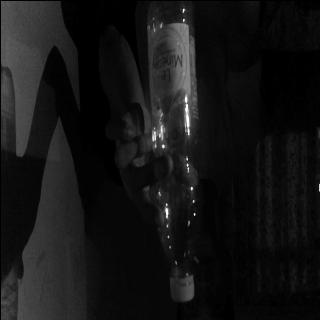plastic_bottles: (145, 0, 202, 299)
